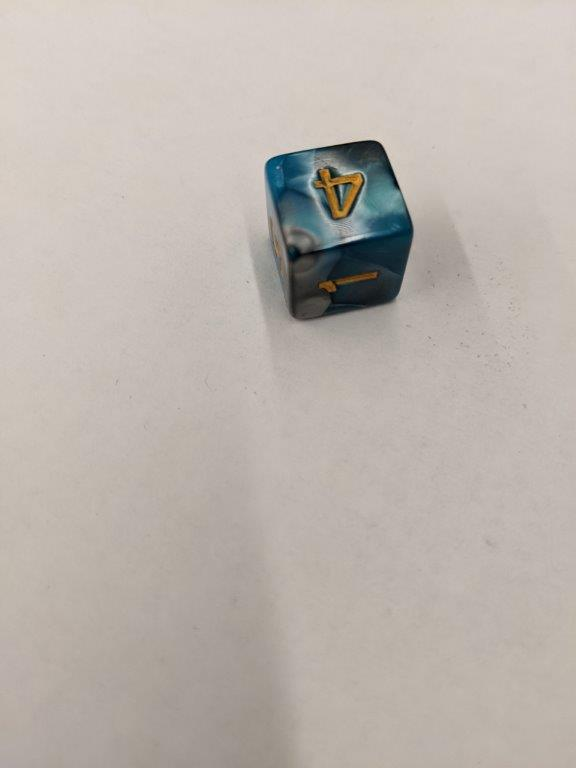d6-4: (261, 139, 416, 320)
